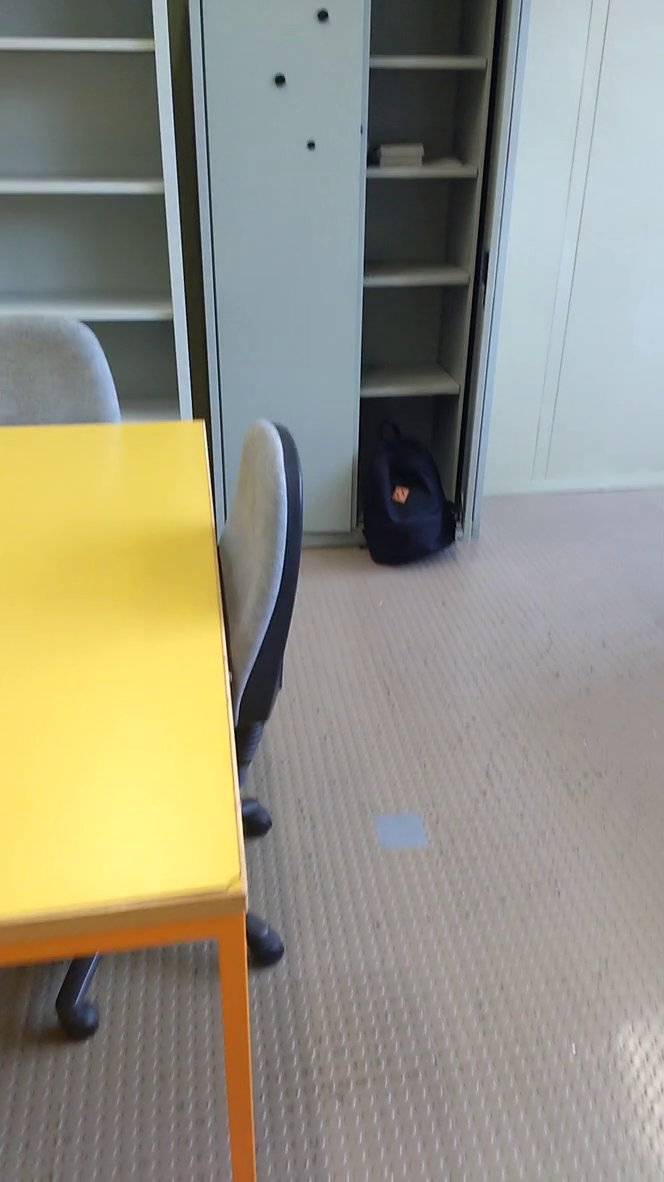bag: (349, 411, 465, 570)
chair: (168, 394, 324, 847), (2, 300, 149, 463)
